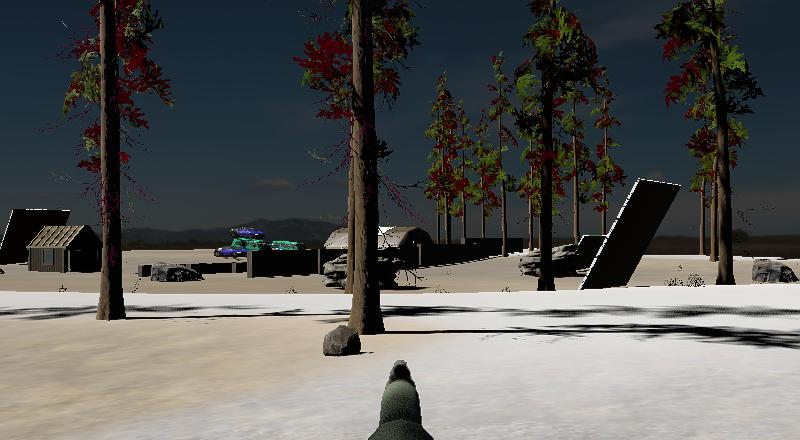House: (23, 223, 103, 272)
car: (245, 240, 315, 278), (230, 225, 266, 243), (213, 244, 247, 259)
